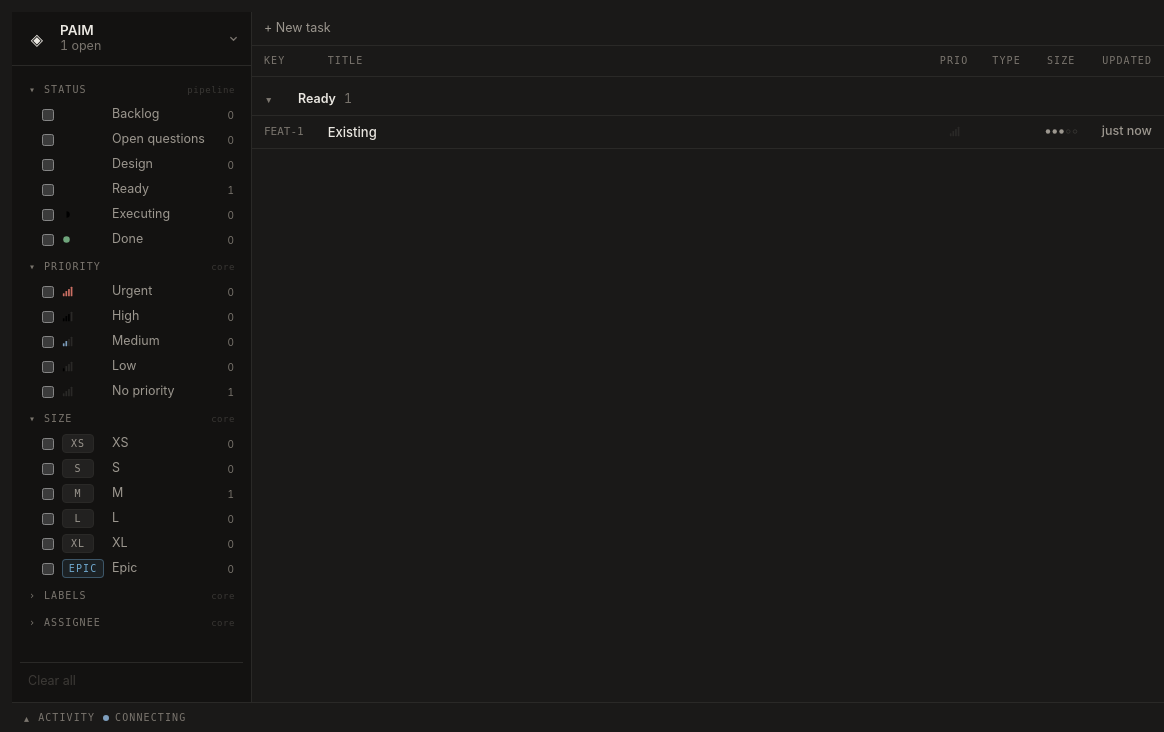
Test: create-via-keyboard, end to end › posts {title} on Enter, closes the input, and shows the new row
Type keys "c"
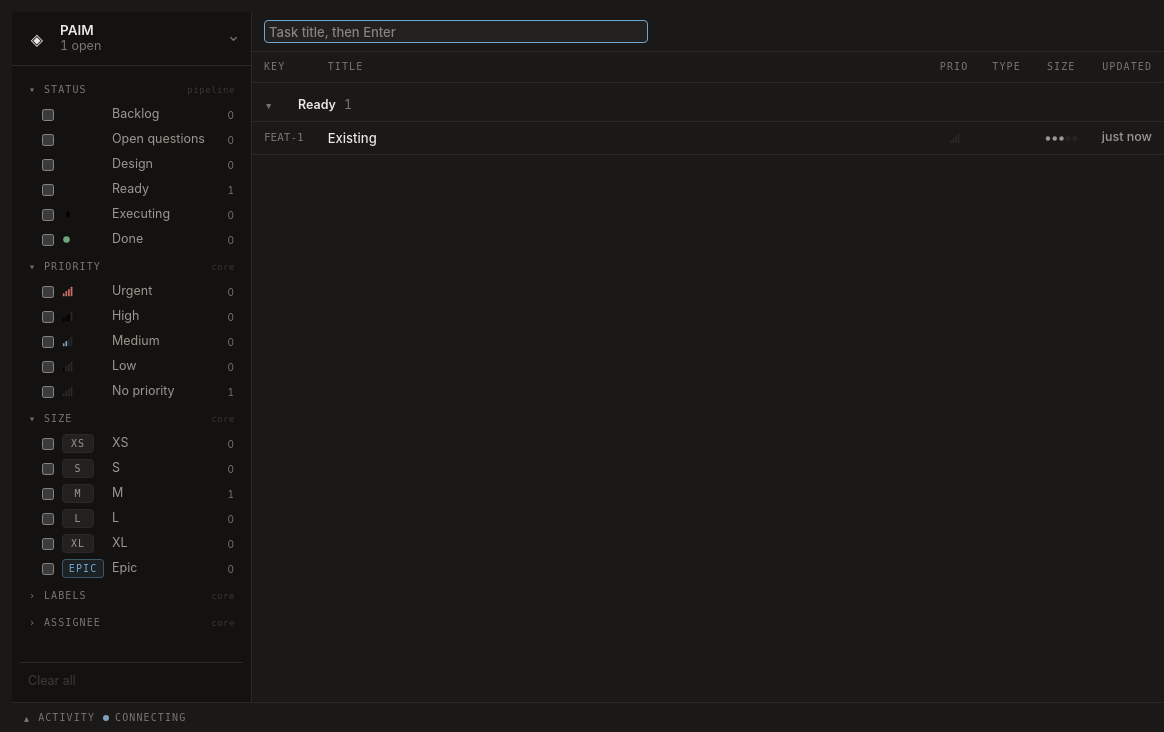
Type "Ship the quick create" into the field named "New task title".
click(456, 32); type("Ship the quick create")  # box [264,20,648,43]
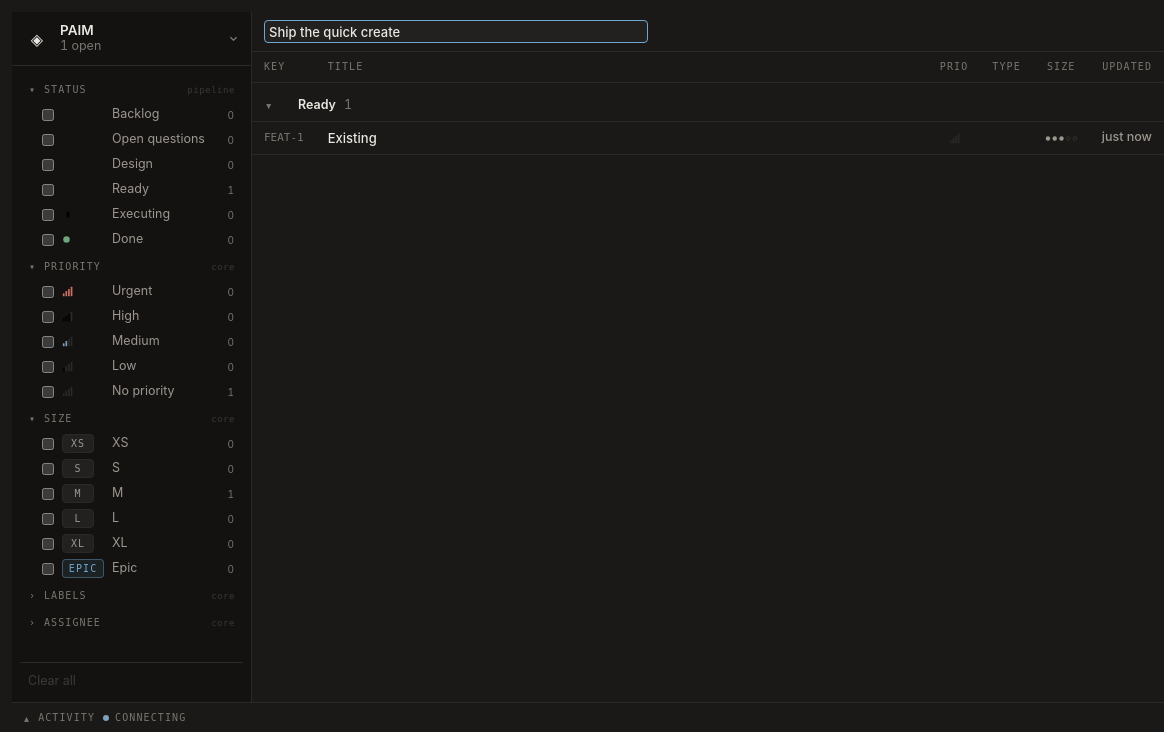
Press Enter
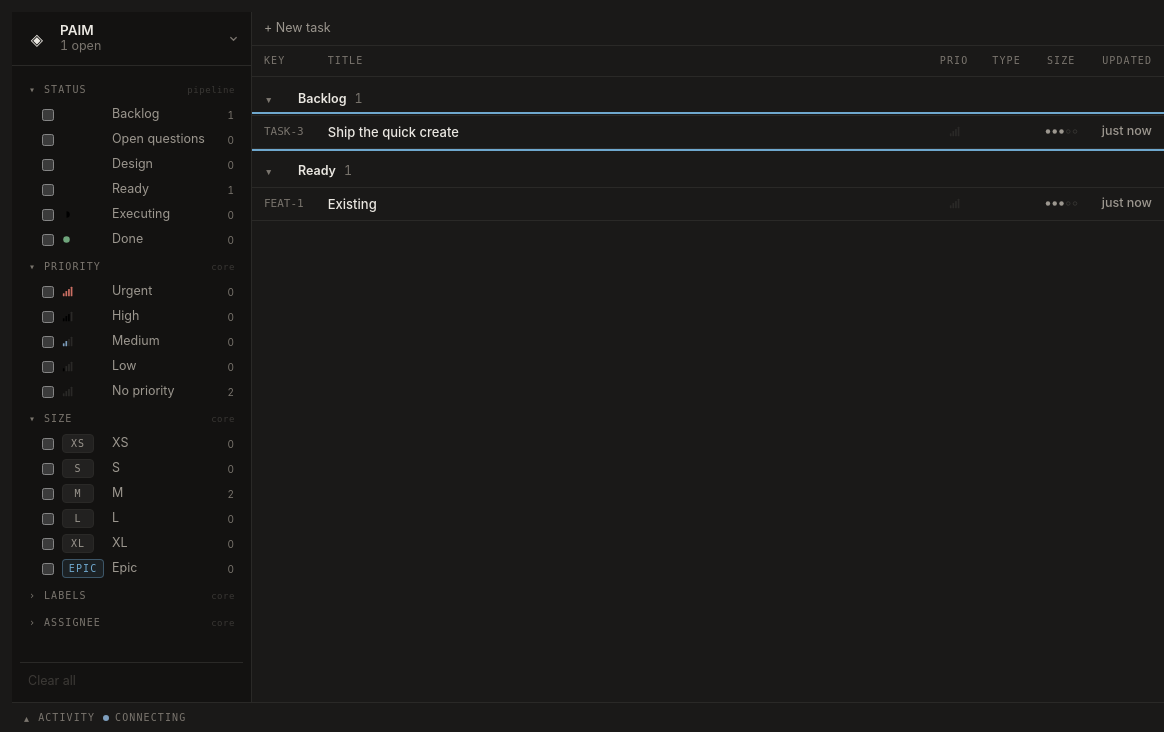
Check: the button "+ New task" is shown, box [264,20,331,37]
